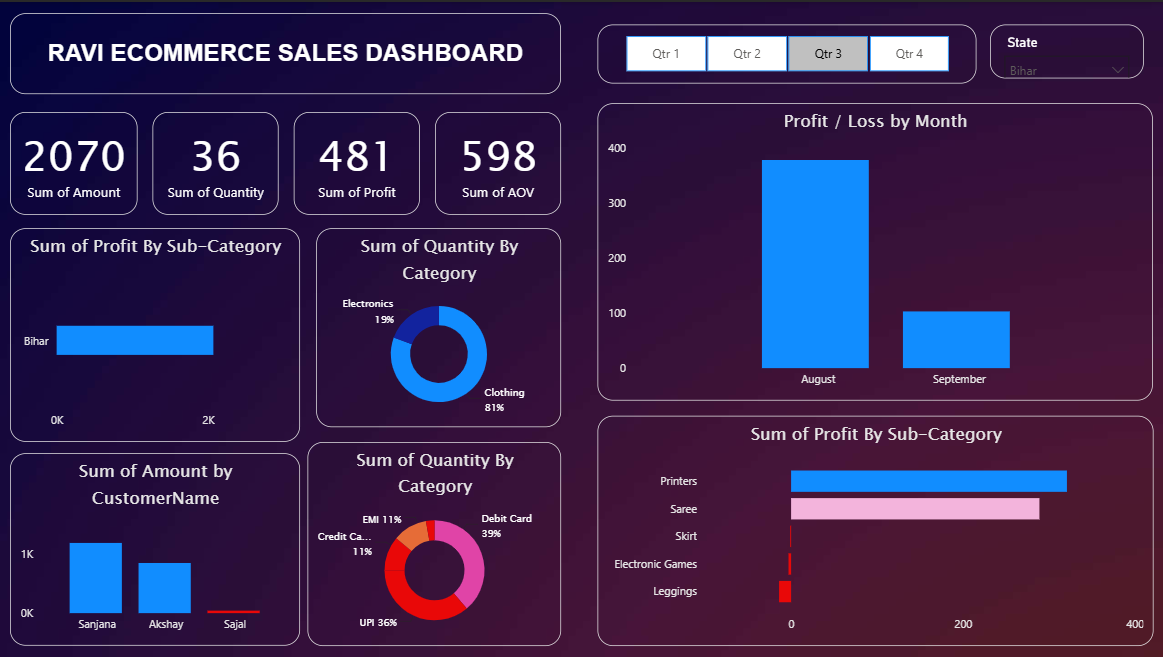

The dashboard page shown, as its layout file describes it:
{"tool":"powerbi","page":{"name":"Page 1","canvas":[1280,720],"ordinal":0},"visuals":[{"type":"columnChart","title":" Profit / Loss by Month","fields":{"Category":["Orders.Order Date.Variation.Date Hierarchy.Month"],"Y":["Sum(Details.Profit)"]},"box":[655.9,111.1,609.3,326.6],"z":0},{"type":"barChart","title":"Sum of Profit By Sub-Category","fields":{"Y":["Sum(Details.Profit)"],"Category":["Details.Sub-Category"]},"box":[655.9,454.2,610.6,252.5],"z":1000},{"type":"donutChart","title":"Sum of Quantity By Category","fields":{"Y":["Sum(Details.Quantity)"],"Category":["Details.Category"]},"box":[347.2,248.4,269,218.2],"z":2000},{"type":"donutChart","title":"Sum of Quantity By Category","fields":{"Y":["Sum(Details.Quantity)"],"Category":["Details.PaymentMode"]},"box":[337.6,483,278.6,223.7],"z":3000},{"type":"card","title":"Sum of Quantity By Category","fields":{"Values":["Sum(Details.Amount)"]},"box":[11,120.8,140,112.5],"z":4000},{"type":"card","title":"Sum of Quantity By Category","fields":{"Values":["Sum(Details.Quantity)"]},"box":[167,120.8,138.6,112.5],"z":5000},{"type":"card","title":"Sum of Quantity By Category","fields":{"Values":["Sum(Details.Profit)"]},"box":[322,120.8,138.6,112.5],"z":6000},{"type":"card","title":"Sum of Quantity By Category","fields":{"Values":["Sum(Details.AOV)"]},"box":[477.5,120.8,138.6,112.5],"z":7000},{"type":"barChart","title":"Sum of Profit By Sub-Category","fields":{"Category":["Orders.State"],"Y":["Sum(Details.Amount)"]},"box":[11,248.4,318.4,234.6],"z":8000},{"type":"columnChart","fields":{"Category":["Orders.CustomerName"],"Y":["Sum(Details.Amount)"]},"box":[11,495.4,318.4,211.3],"z":9000},{"type":"textbox","box":[11,12.3,605.1,89.2],"z":10000},{"type":"slicer","fields":{"Values":["Orders.Order Date.Variation.Date Hierarchy.Quarter"]},"box":[655.9,24.7,415.8,64.5],"z":11000},{"type":"slicer","fields":{"Values":["Orders.State"]},"box":[1086.8,24.7,168.8,59],"z":12000}]}

Visuals, with their boxes in screenshot pixels (x1, y1, x2, y2), scaled from the page's 1280x720 canvas onto the 1163x657 screenshot:
" Profit / Loss by Month" columnChart: rect(596, 101, 1150, 399)
"Sum of Profit By Sub-Category" barChart: rect(596, 414, 1151, 645)
"Sum of Quantity By Category" donutChart: rect(315, 227, 560, 426)
"Sum of Quantity By Category" donutChart: rect(307, 441, 560, 645)
"Sum of Quantity By Category" card: rect(10, 110, 137, 213)
"Sum of Quantity By Category" card: rect(152, 110, 278, 213)
"Sum of Quantity By Category" card: rect(293, 110, 418, 213)
"Sum of Quantity By Category" card: rect(434, 110, 560, 213)
"Sum of Profit By Sub-Category" barChart: rect(10, 227, 299, 441)
columnChart - Orders.CustomerName x Sum(Details.Amount): rect(10, 452, 299, 645)
textbox: rect(10, 11, 560, 93)
slicer - Orders.Order Date.Variation.Date Hierarchy.Quarter: rect(596, 23, 974, 81)
slicer - Orders.State: rect(987, 23, 1141, 76)
